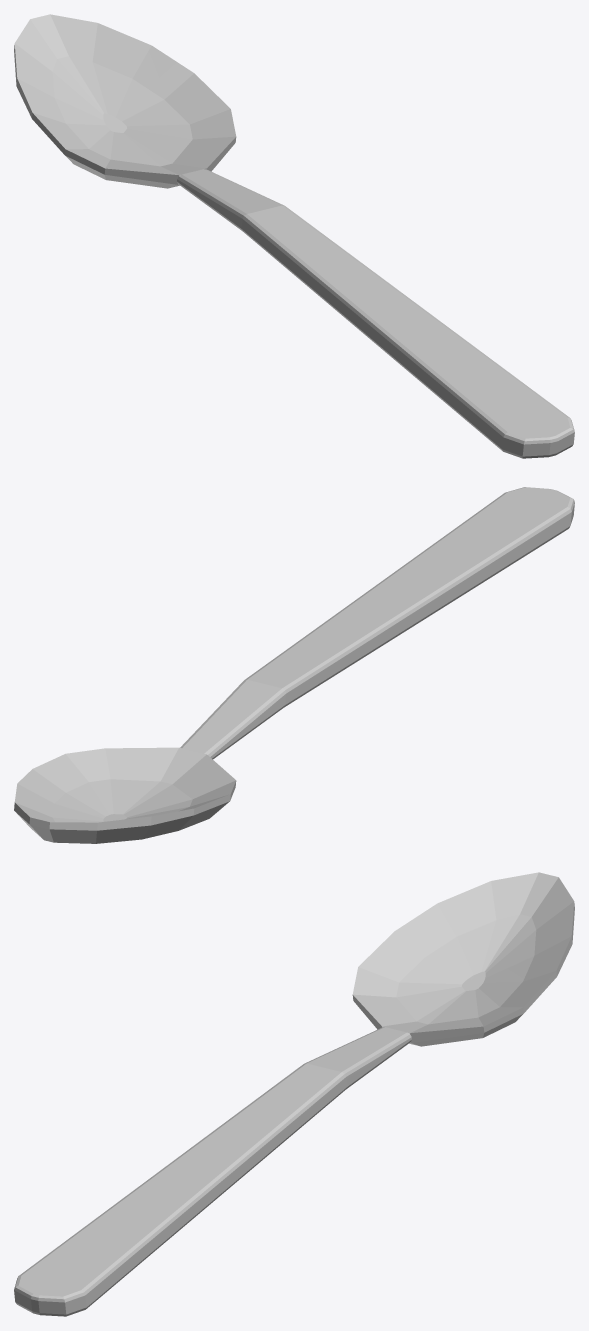
File: R_Spoon.fbx
The picture shows the model from 3 angles, top to bottom: view 1: azimuth 30°, elevation 25°; view 2: azimuth 150°, elevation 25°; view 3: azimuth 330°, elevation 25°; orthographic projection.
Parts seen in each view (by area): view 1: R_Spoon; view 2: R_Spoon; view 3: R_Spoon.
Part boxes in pixels (x1,y1,x2,y2): R_Spoon: [14, 14, 574, 458]; R_Spoon: [14, 487, 574, 843]; R_Spoon: [14, 872, 574, 1316].
Size of the model in its own units: 25.77 by 139 by 10.13.
